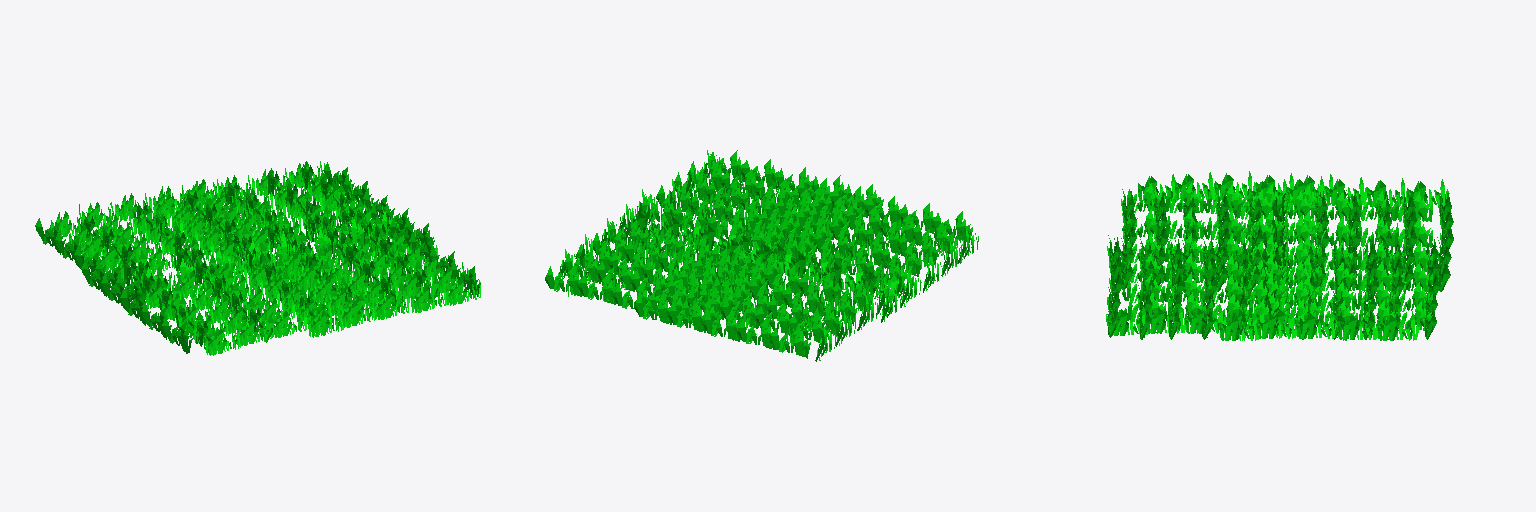
File: grass10.obj
3 renders of one model, left to right at view 1: azimuth 30°, elevation 25°; view 2: azimuth 150°, elevation 25°; view 3: azimuth 270°, elevation 25°, orthographic.
Visible parts, largest first — view 1: mff_grass_patch_edge.087; view 2: mff_grass_patch_edge.087; view 3: mff_grass_patch_edge.087.
Part boxes in pixels (left/top/right/bottom): mff_grass_patch_edge.087: left=35, top=161, right=480, bottom=355; mff_grass_patch_edge.087: left=545, top=150, right=978, bottom=361; mff_grass_patch_edge.087: left=1106, top=171, right=1453, bottom=340.
Bounding box in the file's own units: 15.39 × 1.59 × 15.53.